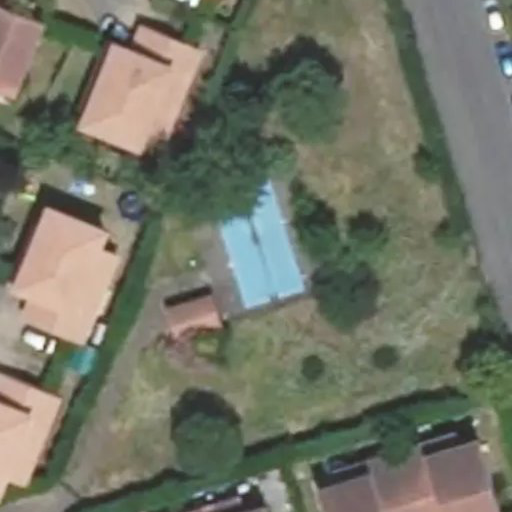pool: (213, 197, 298, 286)
